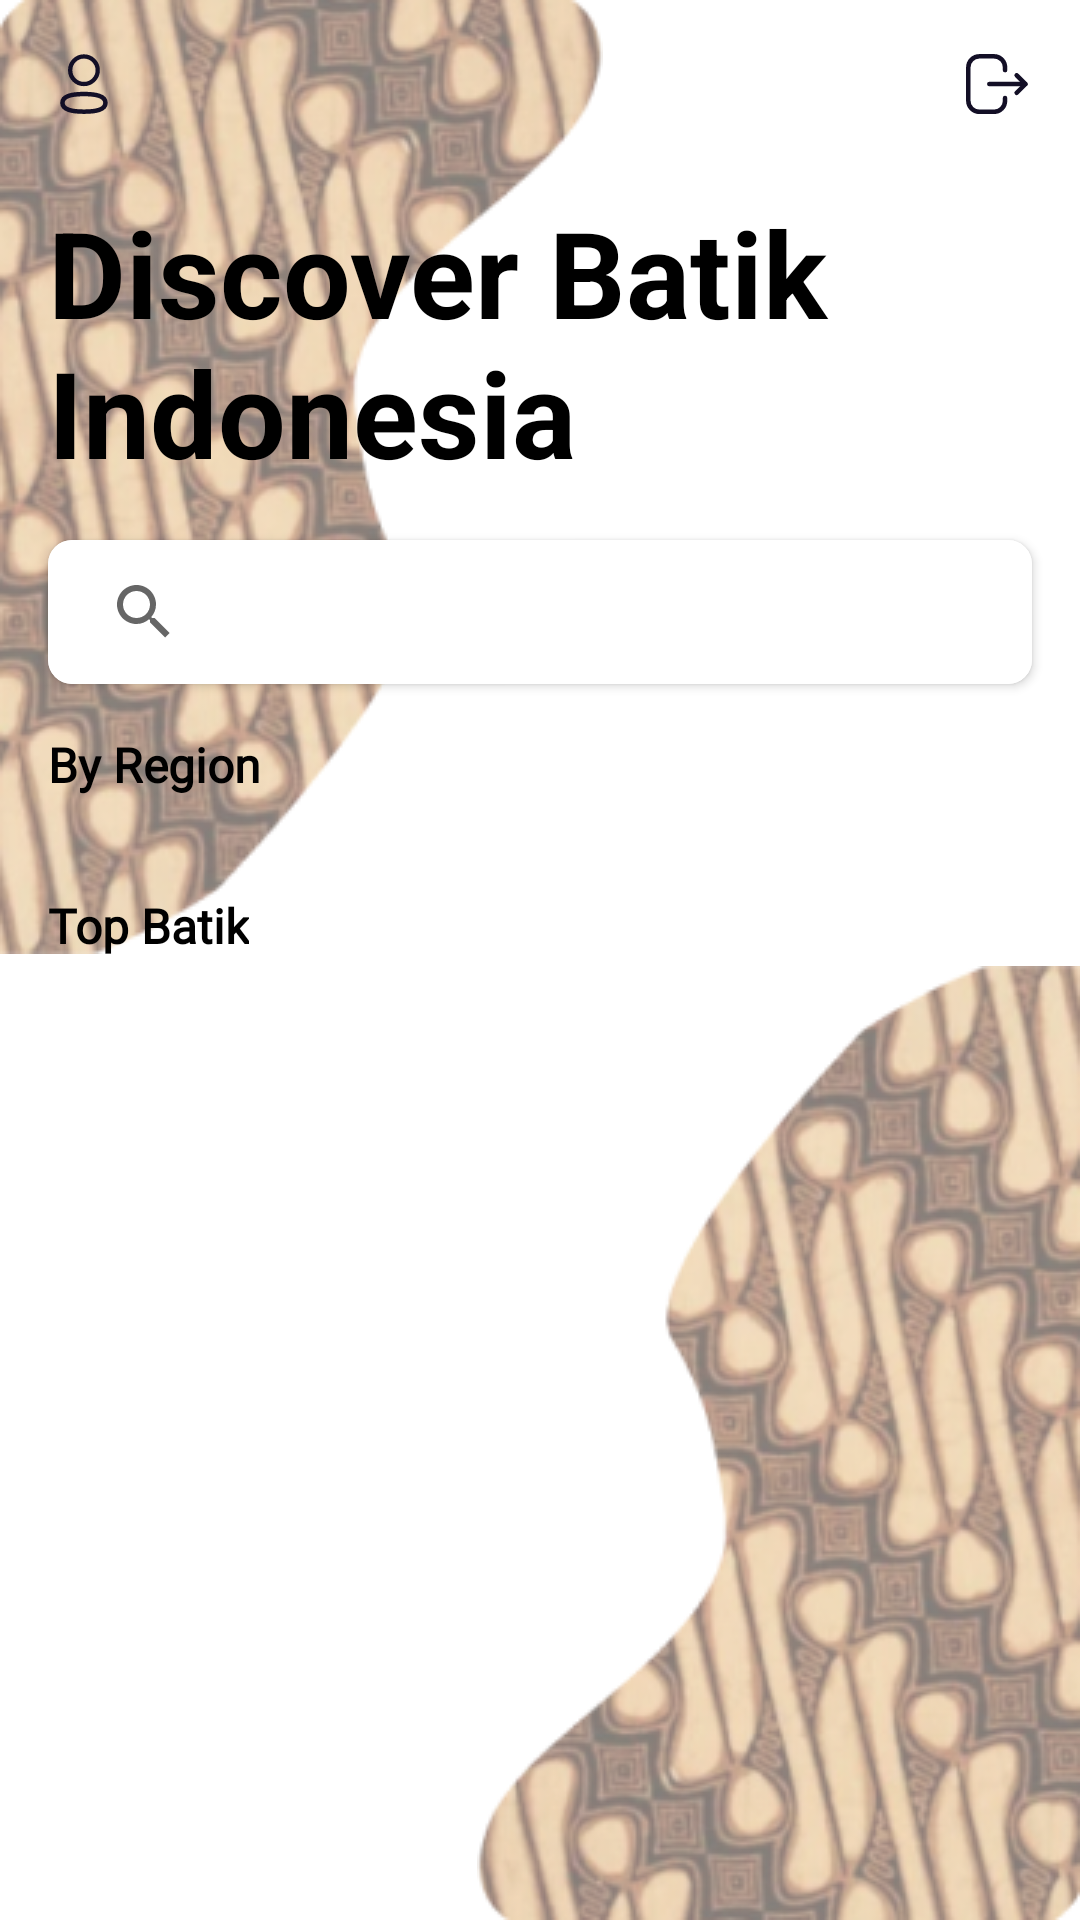

Screen size 1080x1920. Icon name, then its center in pixels as (x,y):
icon user: (84,84)
